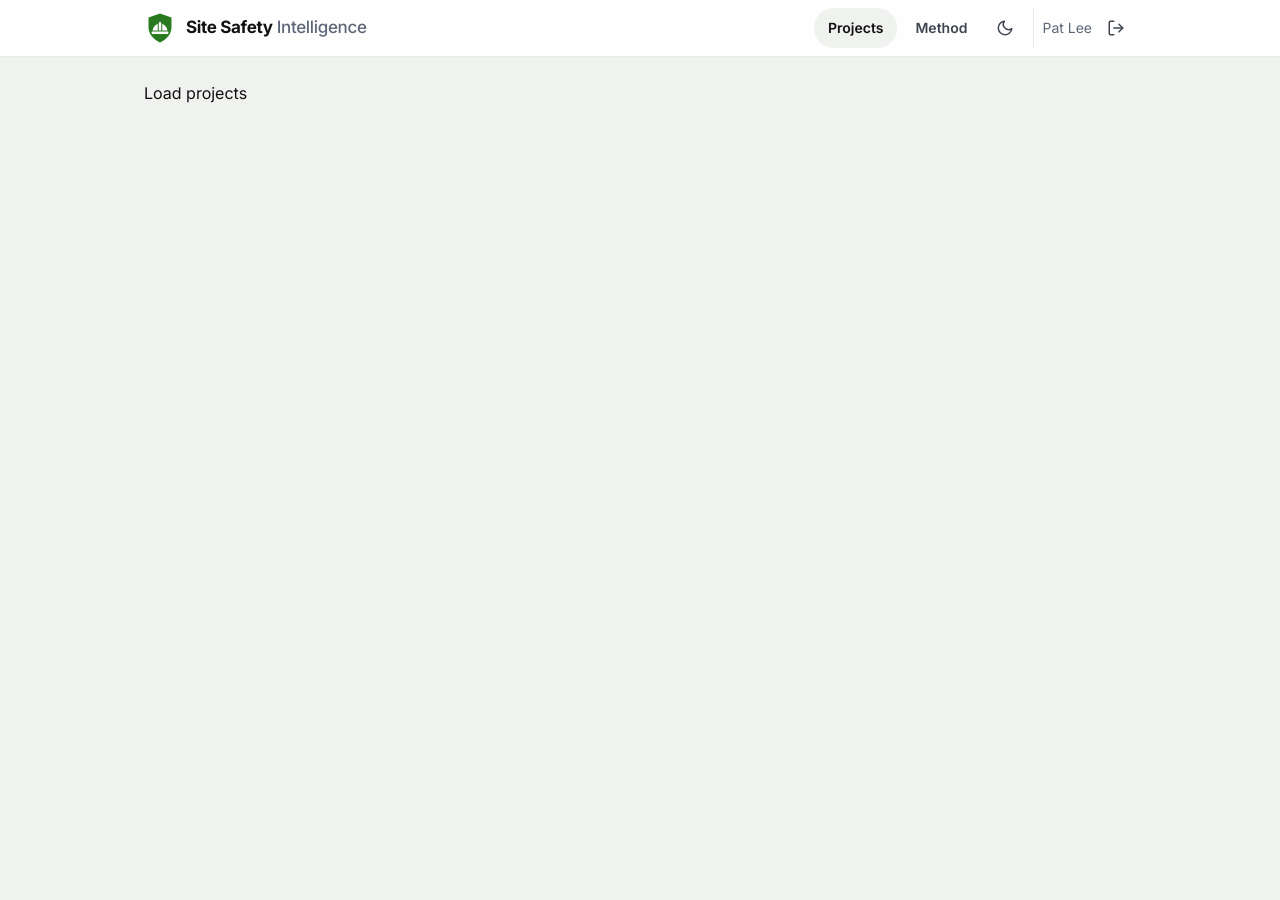
Test: Sign-in › signs out from the header and forgets which chats were open
This screenshot has width=1280, height=900.
Click the button named "Sign out".
click(1116, 28)  # box [1096,8,1136,48]
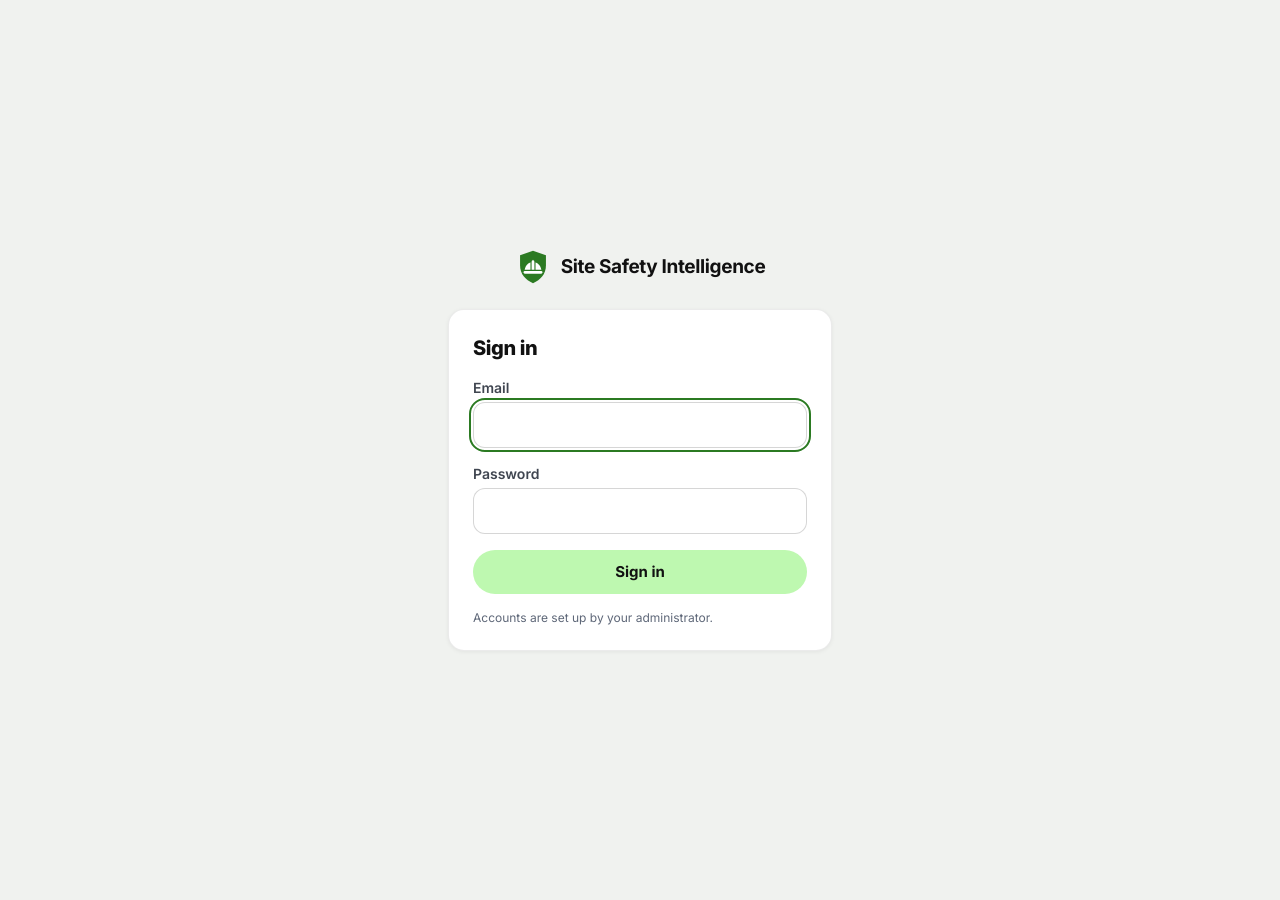
Check: the heading "Sign in" is shown, box [473,336,537,360]
